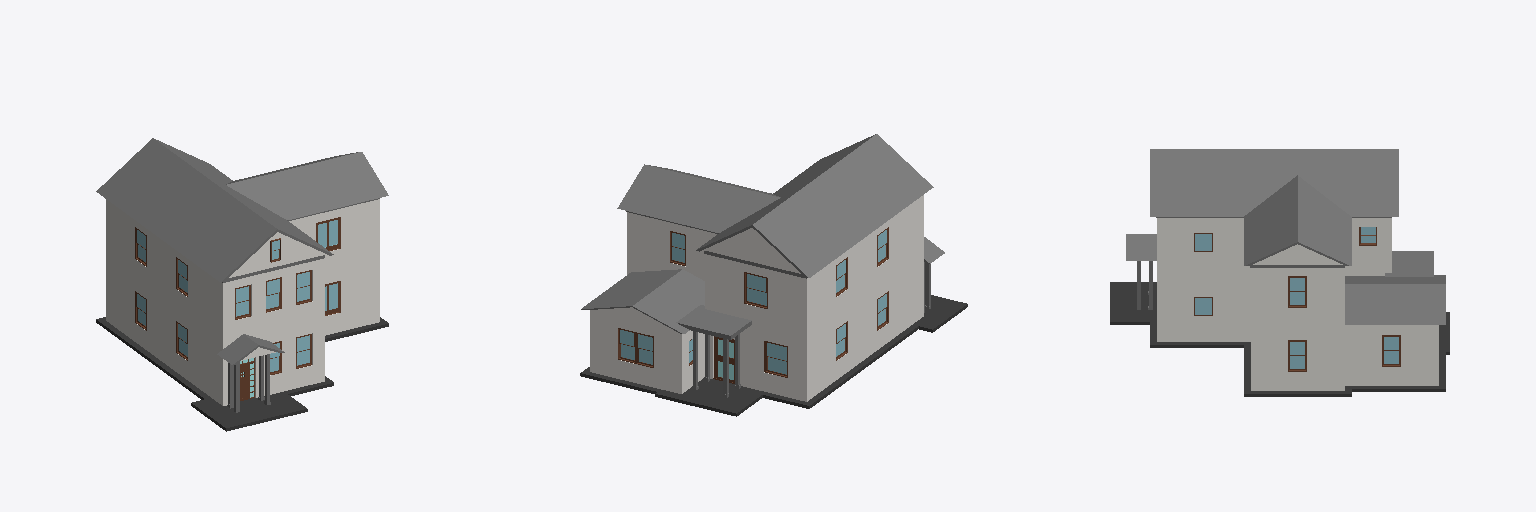
Rendered from task-12-x.obj.
3 renders of one model, left to right at view 1: azimuth 30°, elevation 25°; view 2: azimuth 150°, elevation 25°; view 3: azimuth 270°, elevation 25°, orthographic.
Parts seen in each view (by area): view 1: wall, roof_1, roof_0, ground_base, roof_3; view 2: wall, roof_1, roof_0, ground_base, roof_4, roof_2; view 3: wall, roof_1, roof_0, roof_4, ground_base, roof_2, roof_3.
Part boxes in pixels (x1,y1,x2,y2): wall: (106, 199, 379, 405); roof_1: (96, 138, 333, 282); roof_0: (226, 152, 388, 219); ground_base: (96, 317, 388, 431); roof_3: (217, 334, 284, 364); wall: (590, 195, 923, 401); roof_1: (696, 134, 933, 277); roof_0: (617, 164, 780, 232); ground_base: (580, 295, 967, 416); roof_4: (581, 269, 704, 333); roof_2: (676, 305, 751, 339); wall: (1157, 218, 1438, 390); roof_1: (1150, 149, 1398, 216); roof_0: (1244, 175, 1351, 265); roof_4: (1345, 275, 1445, 324); ground_base: (1110, 282, 1449, 396); roof_2: (1385, 251, 1433, 276); roof_3: (1126, 234, 1156, 260).
Bounding box in the file's own units: 11.3 × 8.02 × 14.5.